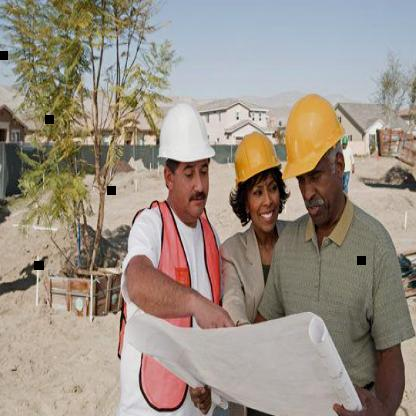helmet: (280, 89, 349, 185), (152, 98, 220, 166), (231, 127, 281, 187)
